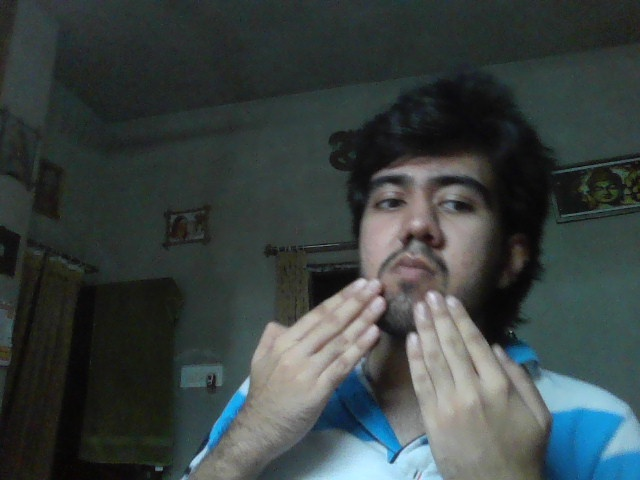ThankYou: (249, 277, 552, 475)
